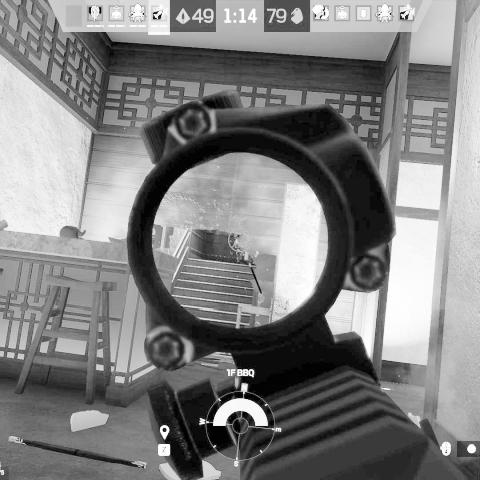Character: (229, 232, 256, 265)
Head: (233, 234, 241, 242)
